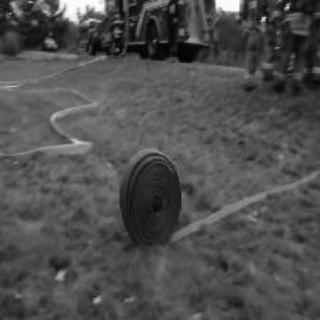other: (104, 136, 198, 258)
